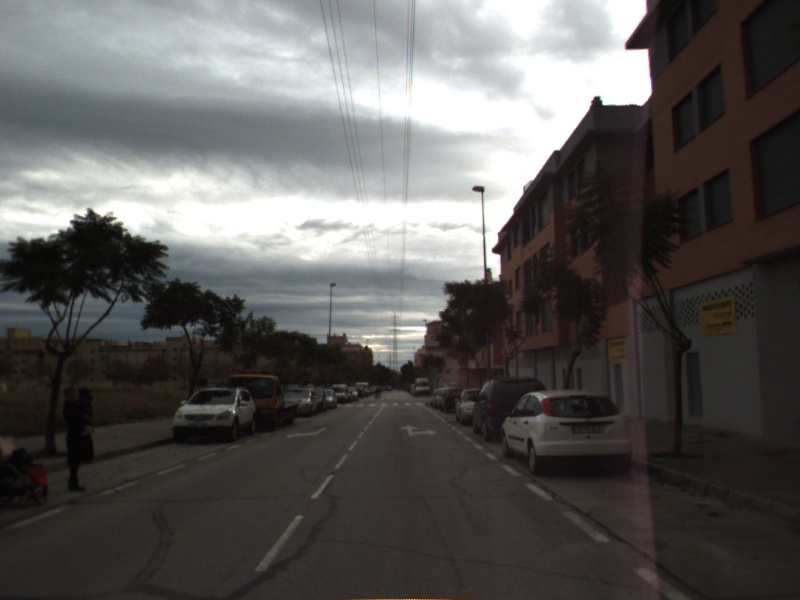STRAIGHT_RIGHT: (399, 423, 439, 438)
